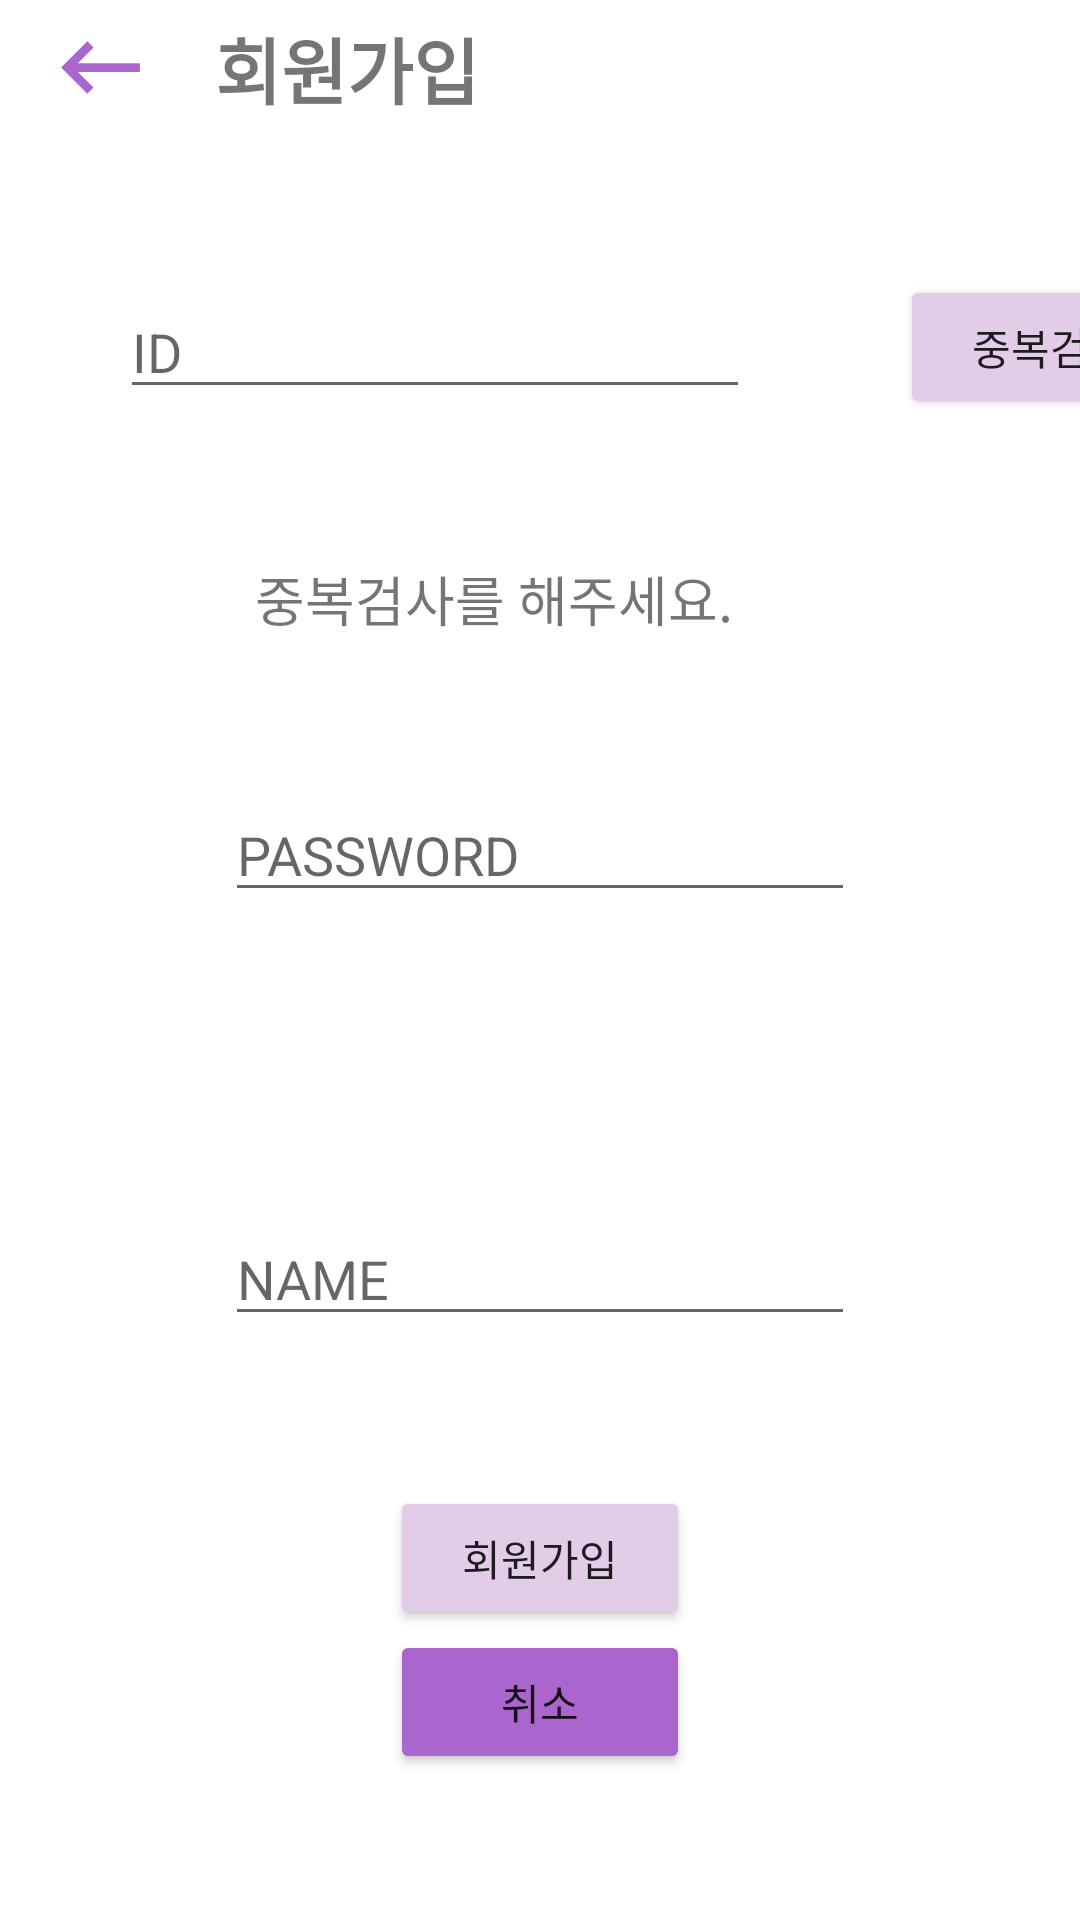

Named icons in this screenshot (1080 × 1920) and their bounding boxes, (x1, y1, x2, y2):
keyboard backspace: (61, 41, 140, 94)
